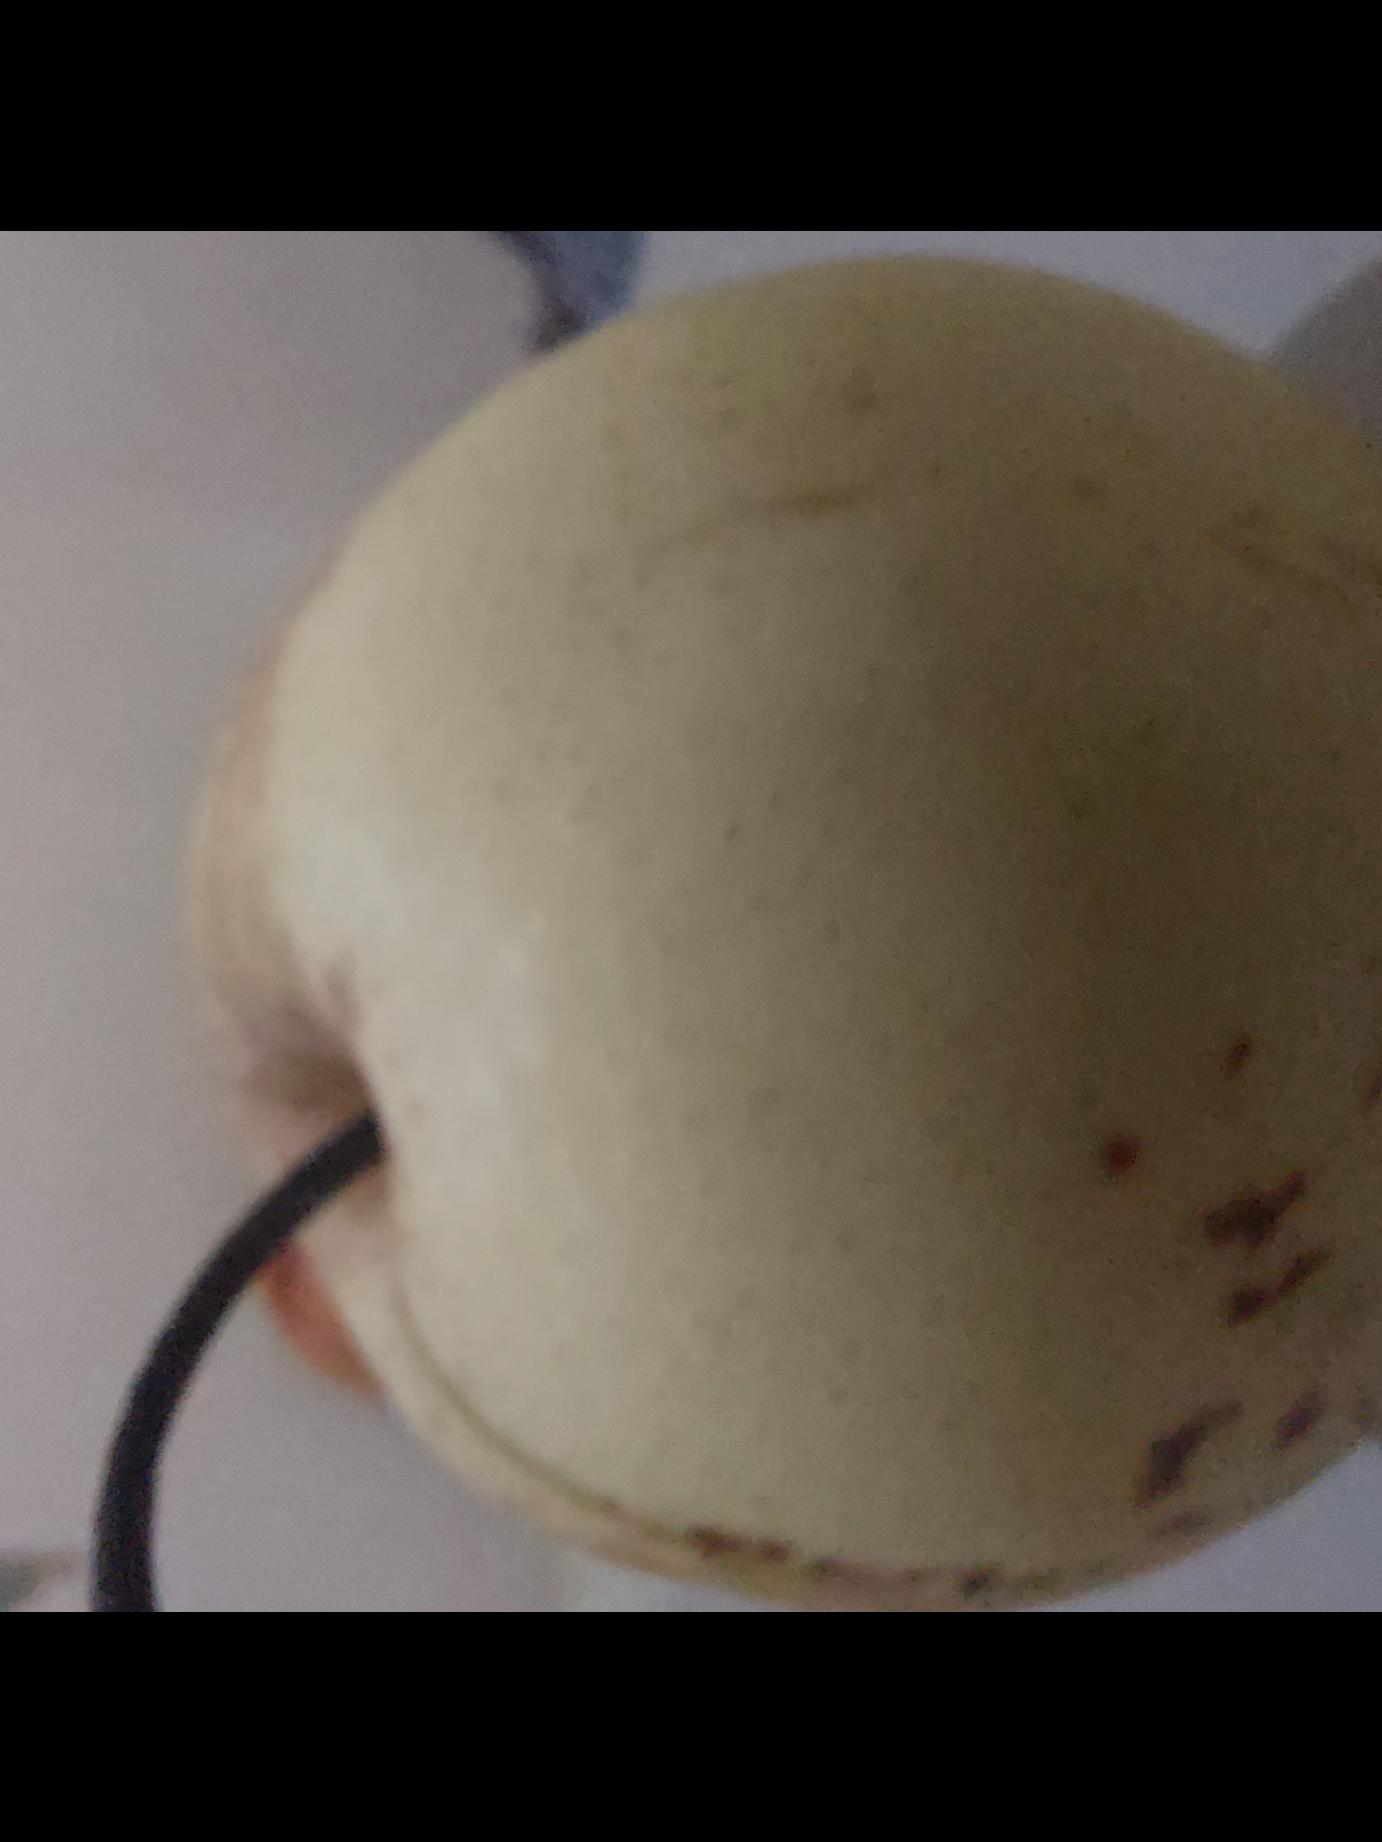Bad Pear: (229, 269, 1382, 1604)
